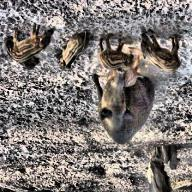boar: (85, 75, 148, 144), (12, 22, 54, 69), (136, 31, 181, 65), (52, 34, 89, 71), (95, 39, 134, 72)
